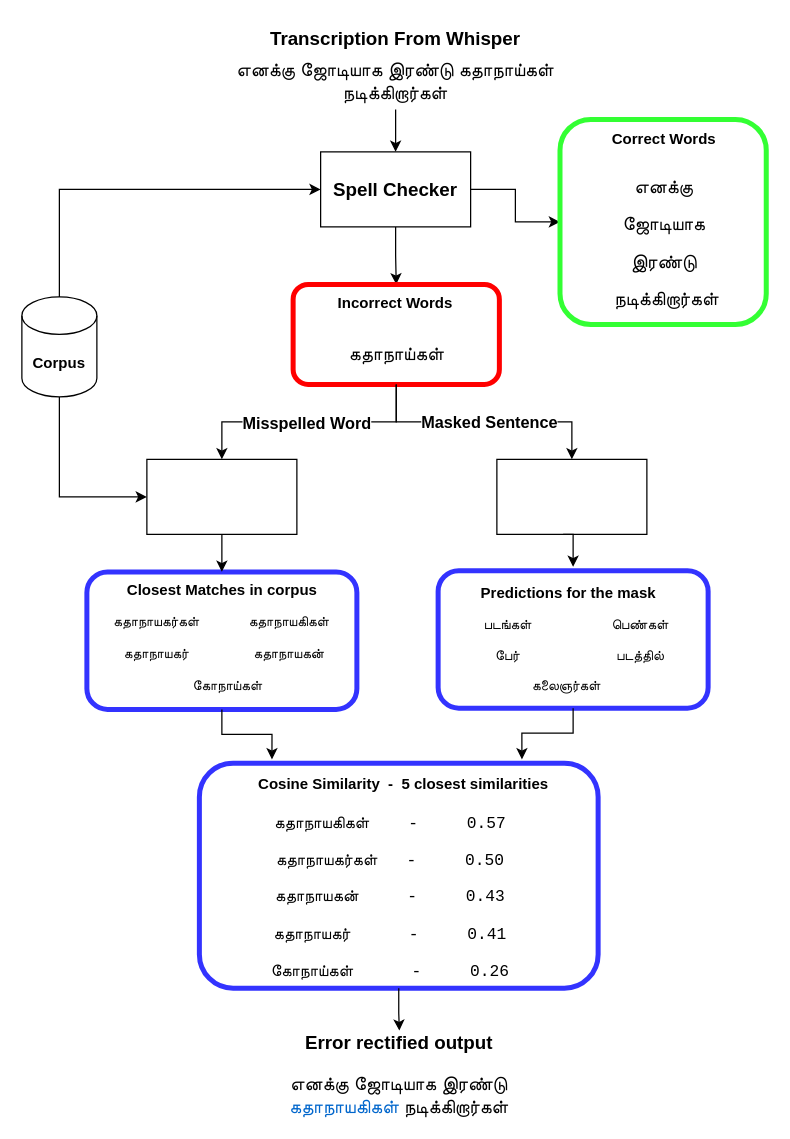
Image size: 790x1139. Some labels were removed from this diagram. The shapes that lost their labels are listed below. From the top down, each one's box as (x1, y1, x2, y2) in pixels, then its label:
(146, 458, 297, 534): Difflib
(496, 458, 647, 534): XLM-Roberta
